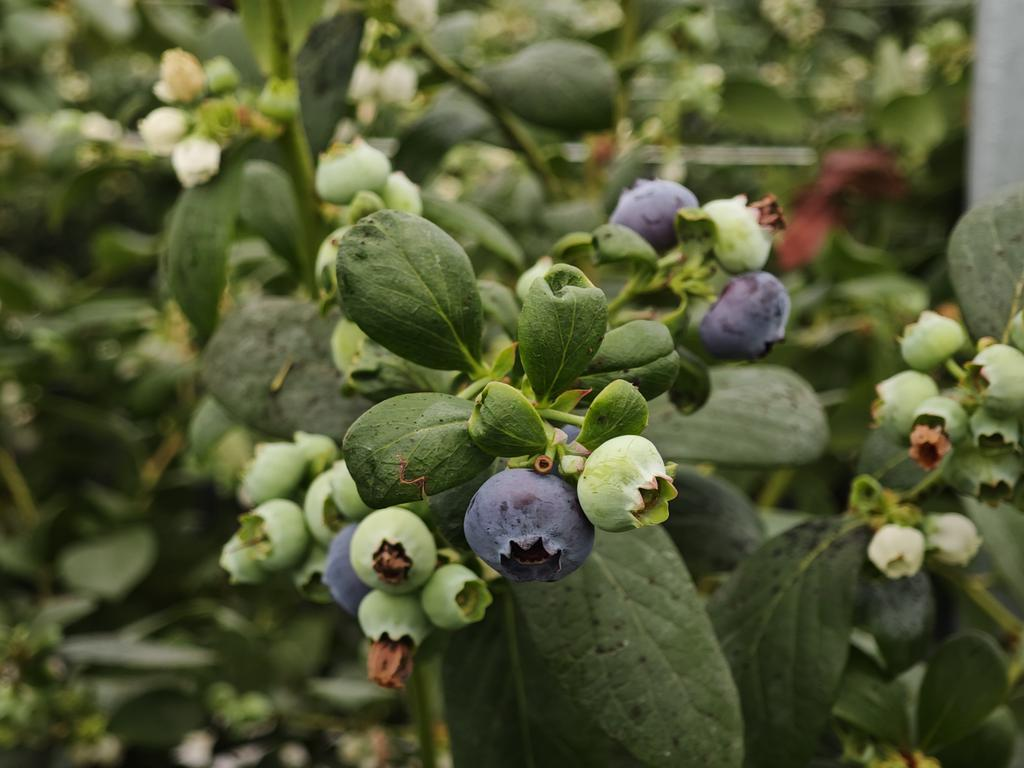RipeBlueBerry: (463, 468, 596, 586), (703, 268, 795, 364), (611, 177, 701, 251)
UnripeBlueBerry: (576, 432, 676, 535), (349, 505, 438, 595), (705, 189, 782, 270)
